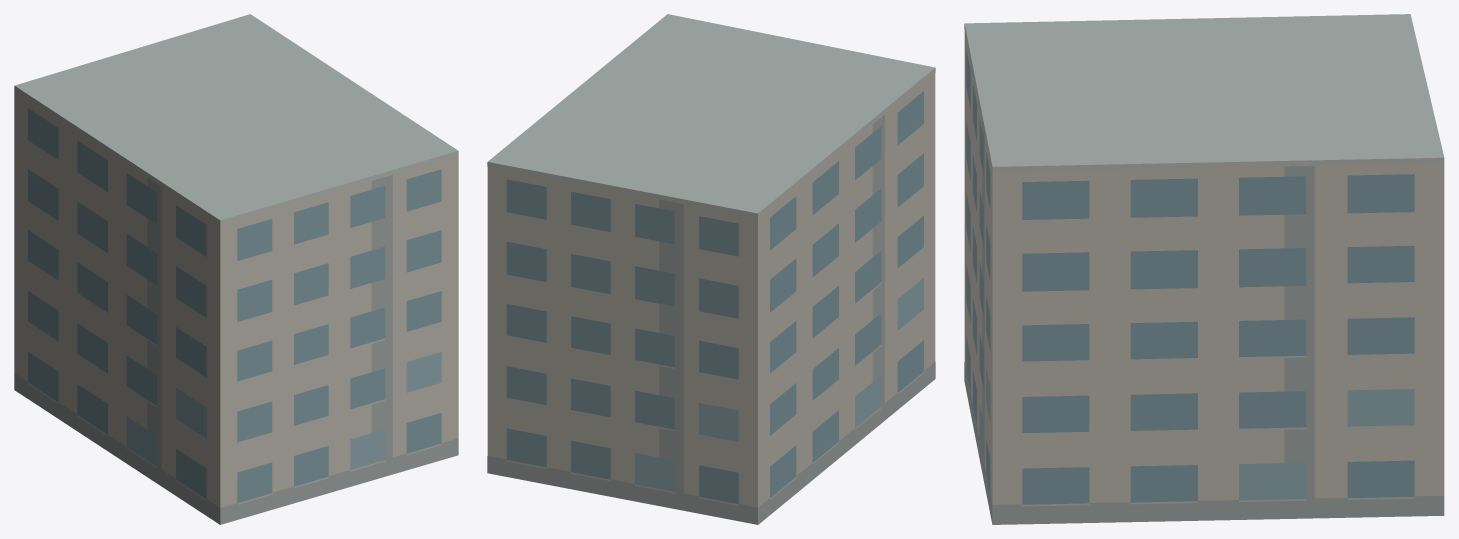
Rendered from survey-upis-32932225.glb.
The picture shows the model from 3 angles, left to right: view 1: azimuth 30°, elevation 25°; view 2: azimuth 150°, elevation 25°; view 3: azimuth 270°, elevation 25°; orthographic projection. The views are drawn at different scales.
Parts seen in each view (by area): view 1: survey-upis-32932225.tmp; view 2: survey-upis-32932225.tmp; view 3: survey-upis-32932225.tmp.
Part boxes in pixels (box(x1,y1,x2,y2)): survey-upis-32932225.tmp: box(14, 14, 458, 524); survey-upis-32932225.tmp: box(487, 14, 935, 524); survey-upis-32932225.tmp: box(964, 14, 1444, 524).
Bounding box in the file's own units: 13.97 × 15.25 × 18.53.
